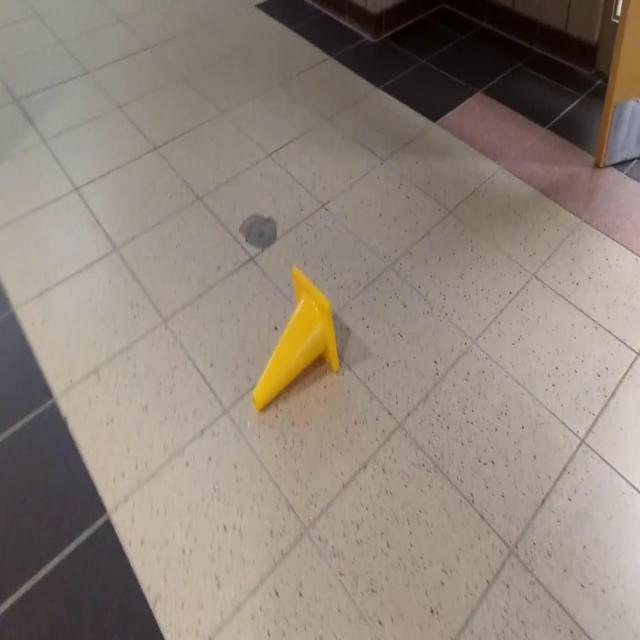frc_cone: (250, 265, 340, 415)
